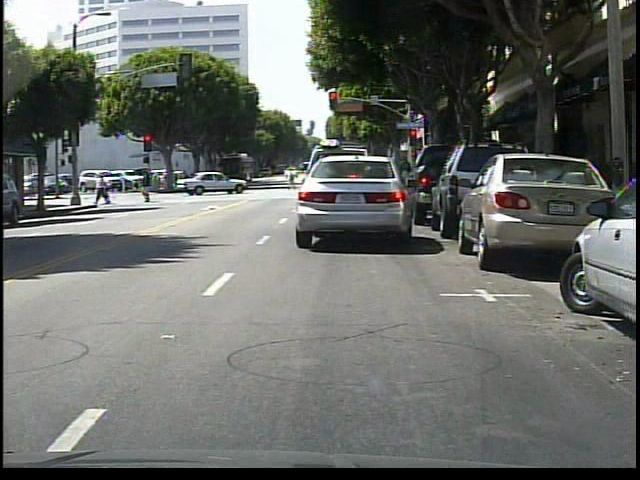person: (96, 173, 113, 206), (142, 171, 155, 204), (288, 166, 298, 190)
